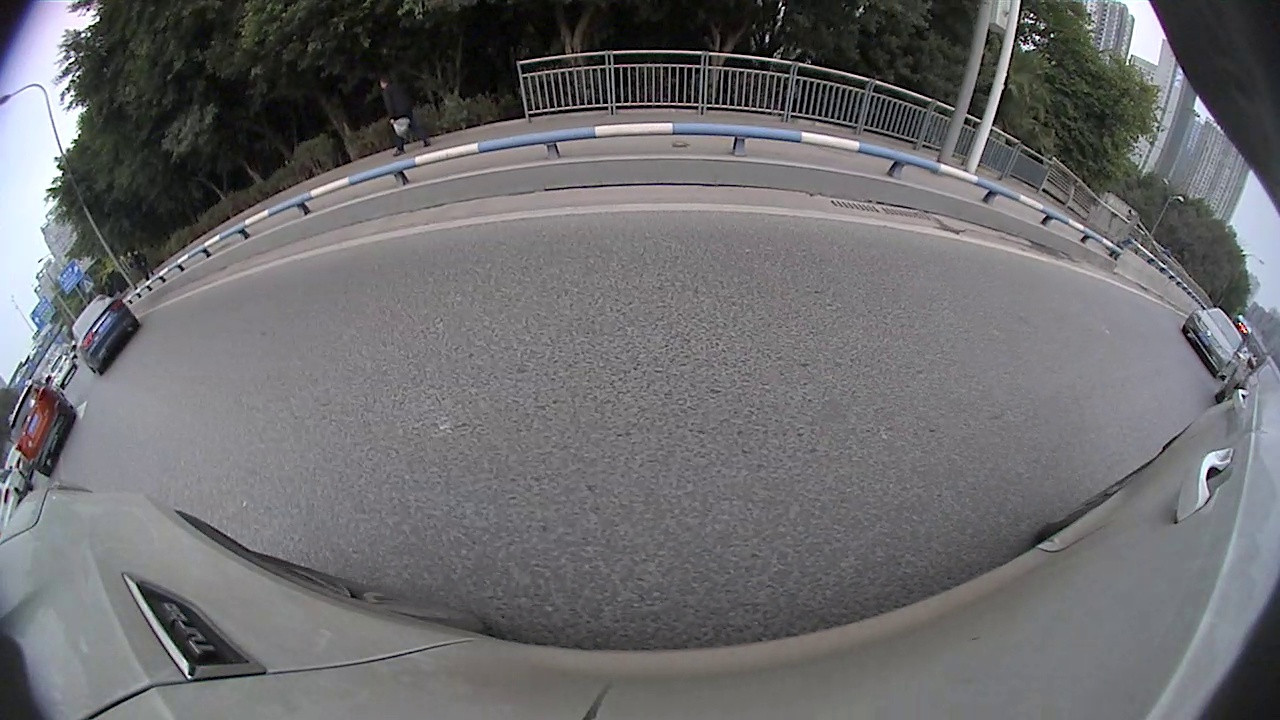car: (9, 378, 78, 478), (66, 292, 142, 379), (1183, 305, 1246, 383), (1215, 350, 1276, 406), (3, 453, 33, 531), (45, 352, 77, 385)
front: (1213, 364, 1226, 381), (1178, 321, 1194, 334)
person: (384, 75, 414, 158), (137, 247, 153, 278), (125, 249, 138, 283)
rear: (37, 460, 54, 478), (1211, 387, 1231, 402), (62, 408, 78, 425), (128, 317, 144, 332), (94, 361, 106, 377)
